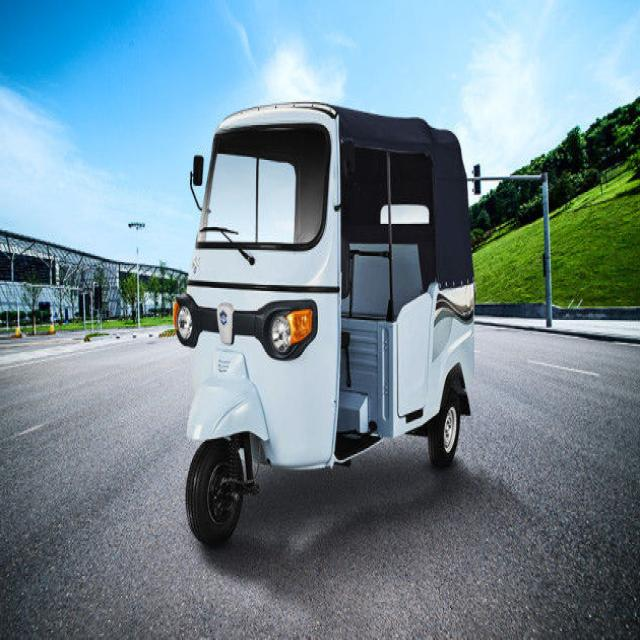autorickshaw: (174, 103, 475, 545)
